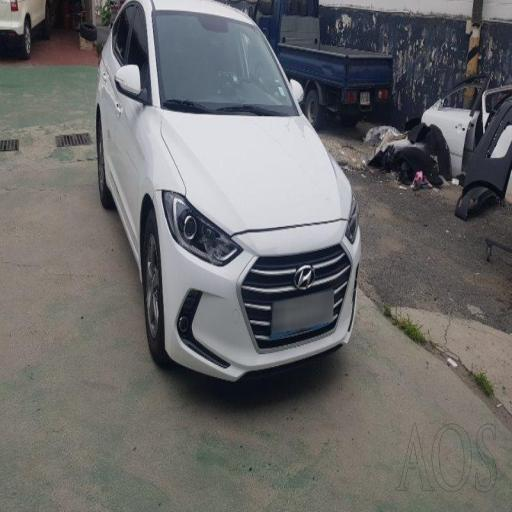normal: (56, 0, 408, 404)
